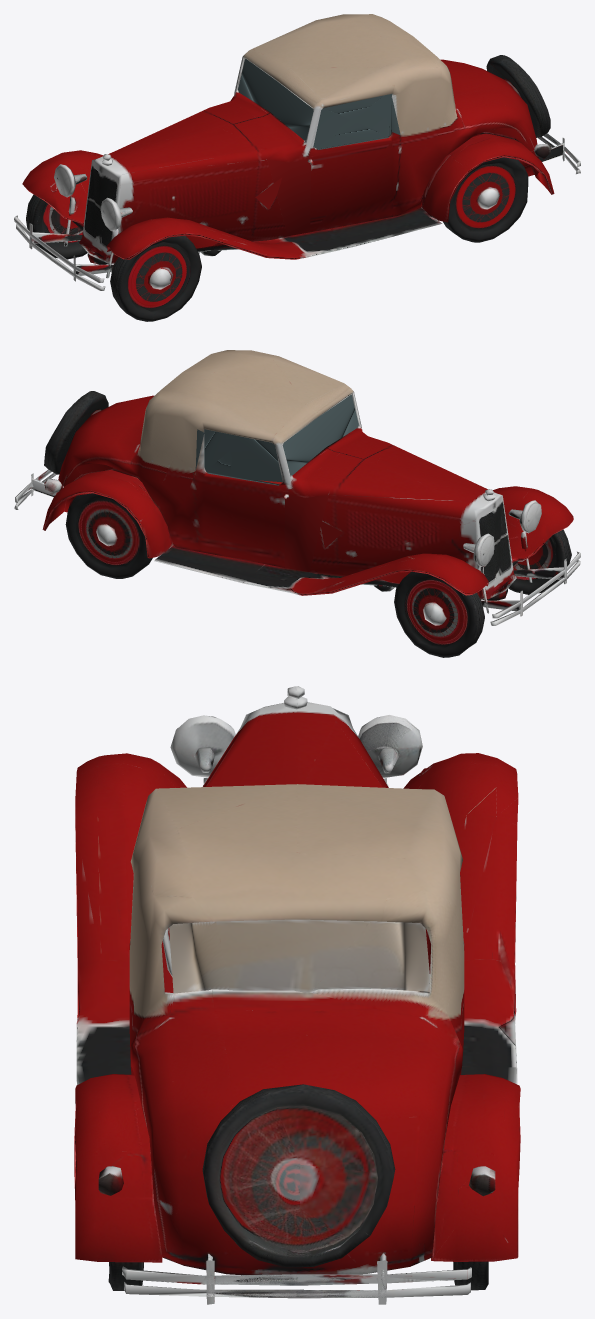
File: speedster.glb
3 renders of one model, top to bottom at view 1: azimuth 30°, elevation 25°; view 2: azimuth 150°, elevation 25°; view 3: azimuth 270°, elevation 25°, orthographic. The views are drawn at different scales.
Parts seen in each view (by area): view 1: Mesh_0; view 2: Mesh_0; view 3: Mesh_0.
Boxes of the visible parts, x1,y1,x2,y2 form: Mesh_0: [14, 14, 580, 321]; Mesh_0: [14, 350, 580, 657]; Mesh_0: [74, 686, 520, 1304].
Bounding box in the file's own units: 1 × 0.3623 × 0.3945.
3 materials, 1 textured.
